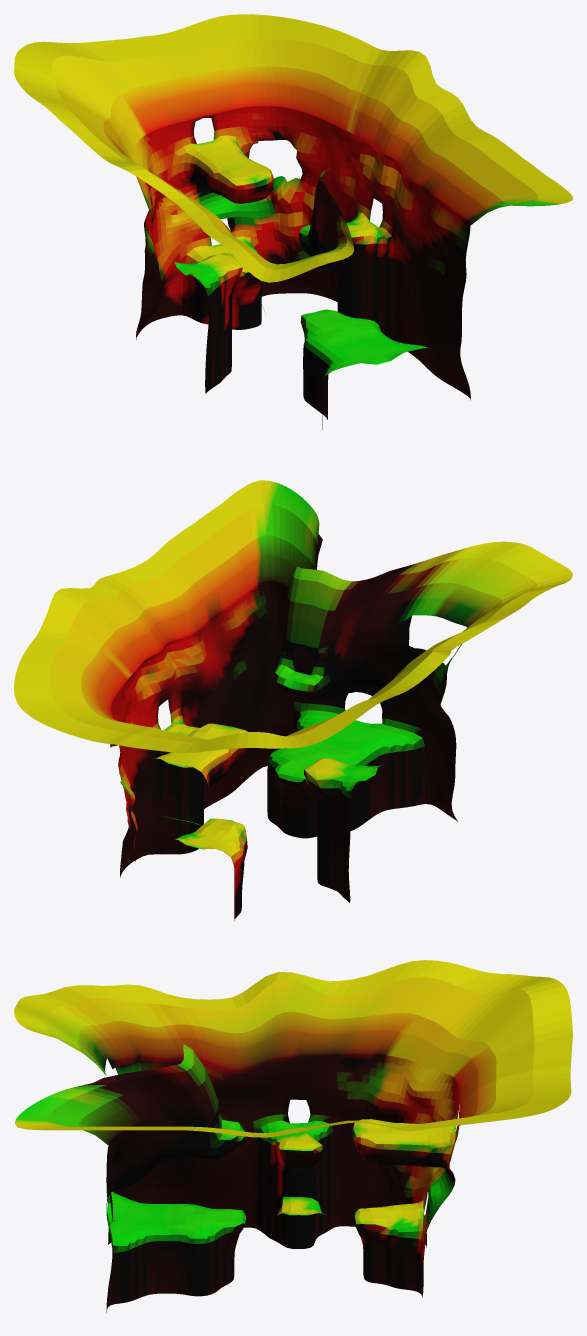
The model's file is chasm.glb.
3 renders of one model, top to bottom at view 1: azimuth 30°, elevation 25°; view 2: azimuth 150°, elevation 25°; view 3: azimuth 270°, elevation 25°, orthographic. The views are drawn at different scales.
Parts seen in each view (by area): view 1: Chasm; view 2: Chasm; view 3: Chasm.
Boxes of the visible parts, x1,y1,x2,y2 form: Chasm: (14,14,572,429); Chasm: (14,480,572,920); Chasm: (14,960,572,1312).
Bounding box in the file's own units: 47.72 × 33.21 × 69.74.
